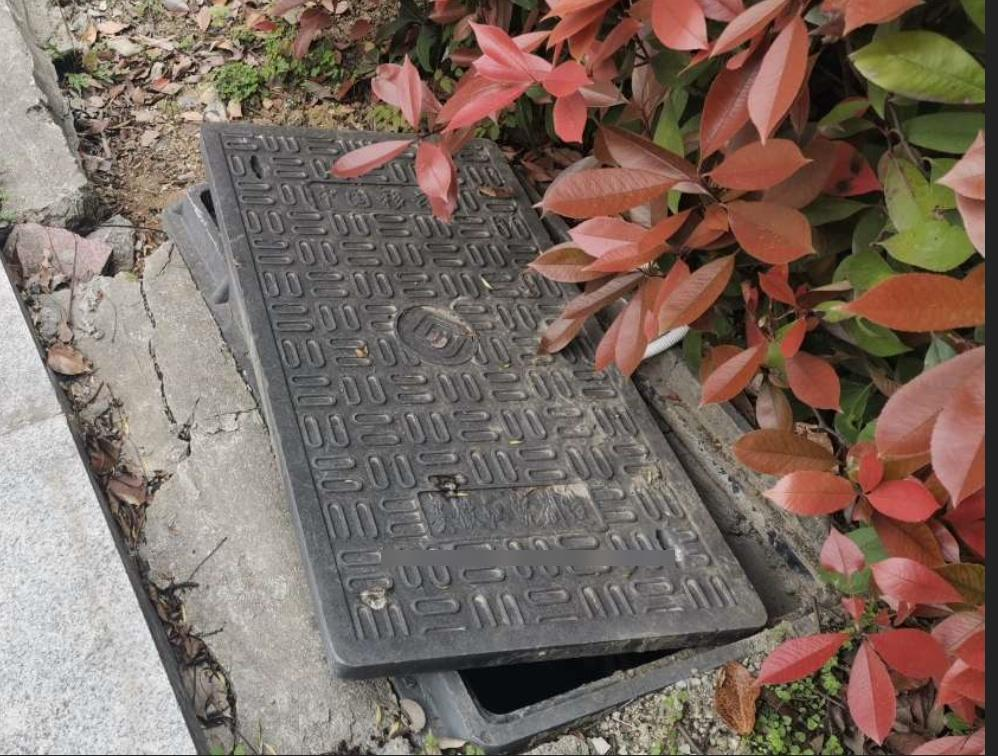wellcover: (178, 88, 846, 722)
